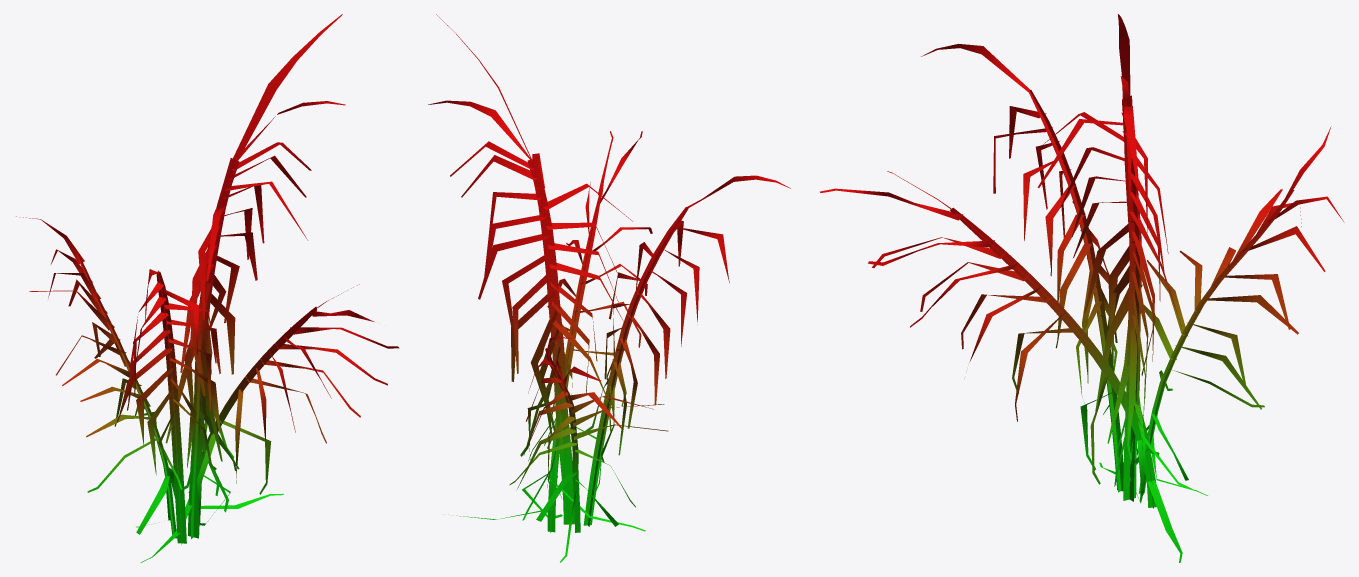
The model's file is Giant Reed_LOD2_Var2_sjllX.fbx.
The picture shows the model from 3 angles, left to right: view 1: azimuth 30°, elevation 25°; view 2: azimuth 150°, elevation 25°; view 3: azimuth 270°, elevation 25°; orthographic projection. The views are drawn at different scales.
Parts seen in each view (by area): view 1: _4ad0_Var2_LOD002; view 2: _4ad0_Var2_LOD002; view 3: _4ad0_Var2_LOD002.
Part boxes in pixels (x1,y1,x2,y2): _4ad0_Var2_LOD002: (16, 14, 399, 562); _4ad0_Var2_LOD002: (428, 14, 790, 562); _4ad0_Var2_LOD002: (820, 14, 1344, 562).
Size of the model in its own units: 124 by 205 by 169.
